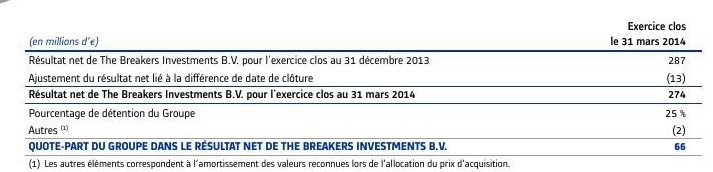table: (0, 0, 713, 172)
